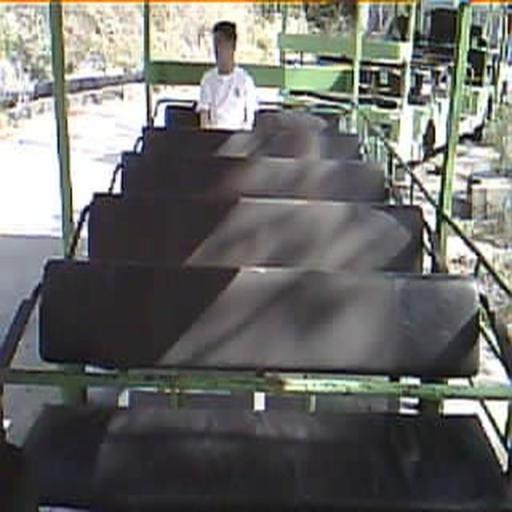persona: (195, 20, 259, 132)
